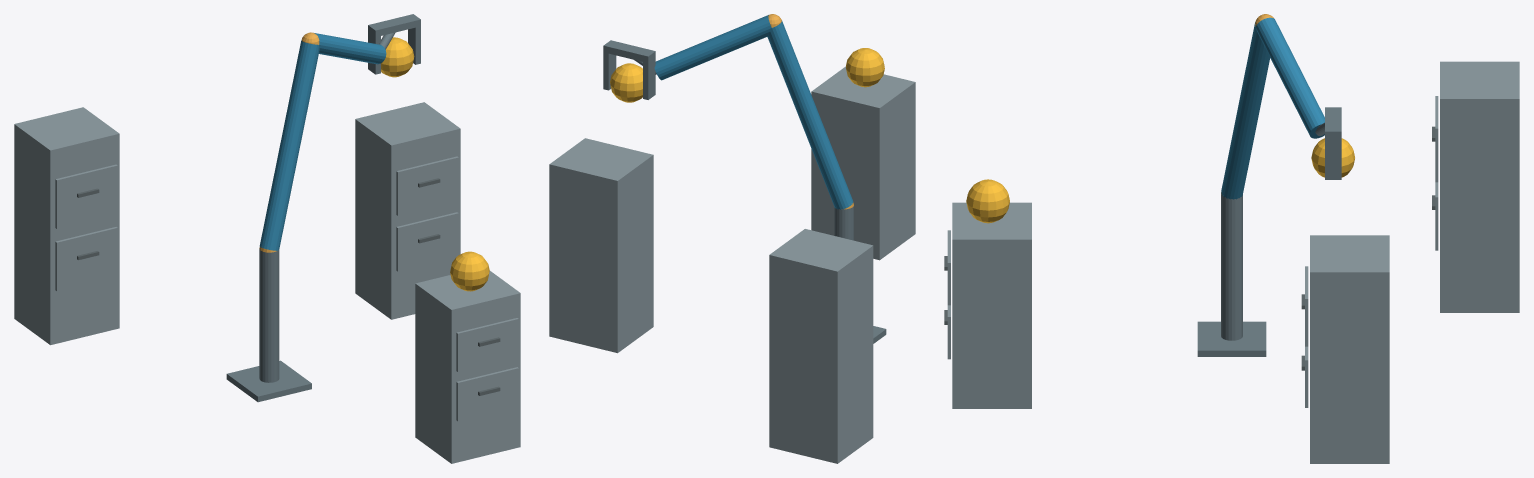
3 renders of one model, left to right at view 1: azimuth 30°, elevation 25°; view 2: azimuth 150°, elevation 25°; view 3: azimuth 270°, elevation 25°, orthographic. The views are drawn at different scales.
Parts seen in each view (by area): view 1: cabinet_3 body, cabinet_2 body, cabinet_1 body, moving link 1, cabinet_3 drawer front.001, cabinet_3 drawer front, cabinet_2 drawer front, cabinet_2 drawer front.001, fixed post, cabinet_1 drawer front, cabinet_1 drawer front.001, pedestal (+4 smaller); view 2: cabinet_3 body, cabinet_2 body, cabinet_1 body, moving link 1, moving link 2, released ball_1, ball ball_2, gripper bridge, fixed post, gripper finger -1, gripper finger 1; view 3: cabinet_3 body, cabinet_2 body, cabinet_1 body, moving link 1, fixed post, moving link 2, pedestal, released ball_1, ball ball_2, gripper finger 1.
Part boxes in pixels (x1,y1,x2,y2): cabinet_3 body: (14,107,119,345); cabinet_2 body: (355,102,460,319); cabinet_1 body: (415,270,520,463); moving link 1: (259,40,319,250); cabinet_3 drawer front.001: (55,164,117,228); cabinet_3 drawer front: (55,227,117,291); cabinet_2 drawer front: (396,212,458,271); cabinet_2 drawer front.001: (396,156,458,215); fixed post: (259,248,279,382); cabinet_1 drawer front: (456,367,518,421); cabinet_1 drawer front.001: (456,318,518,371); pedestal: (226,360,311,402); cabinet_3 body: (769,229,873,463); cabinet_2 body: (549,138,653,353); cabinet_1 body: (811,66,915,260); moving link 1: (767,20,853,209); moving link 2: (654,15,771,80); released ball_1: (846,48,884,87); ball ball_2: (610,63,642,102); gripper bridge: (603,40,655,63); fixed post: (834,206,853,240); gripper finger -1: (643,58,655,99); gripper finger 1: (603,52,616,90); cabinet_3 body: (1440,61,1519,312); cabinet_2 body: (1310,235,1389,463); cabinet_1 body: (952,202,1031,408); moving link 1: (1221,22,1269,199); fixed post: (1221,193,1242,340); moving link 2: (1256,17,1324,138); pedestal: (1197,321,1266,356); released ball_1: (966,179,1009,223); ball ball_2: (1311,138,1354,177); gripper finger 1: (1325,139,1341,179).
Bounding box in the file's own units: 1.62 × 1.44 × 2.1.
